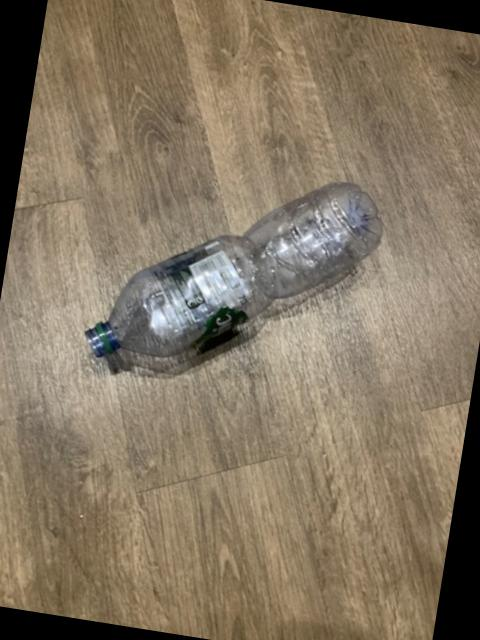plastic: (84, 180, 381, 354)
